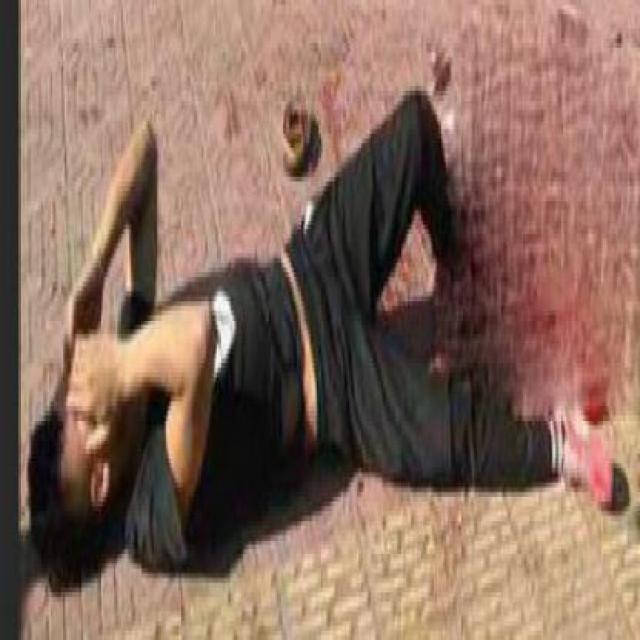fall: (9, 39, 633, 588)
